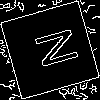N: (25, 25, 80, 73)
